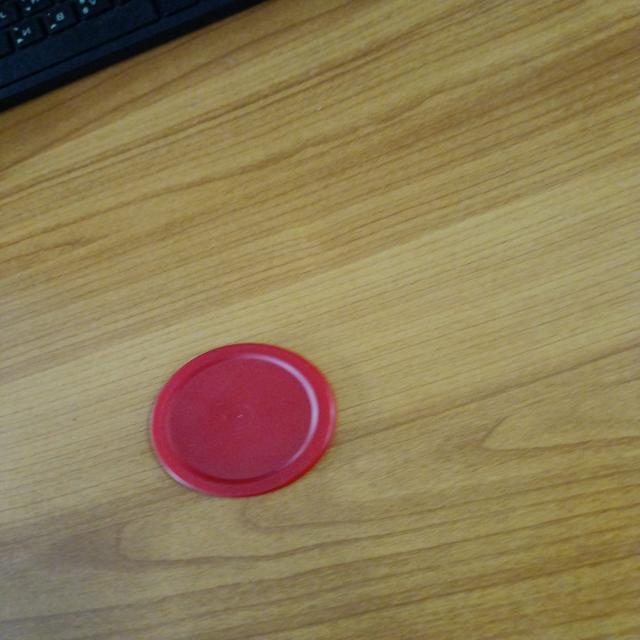chip: (148, 340, 340, 499)
